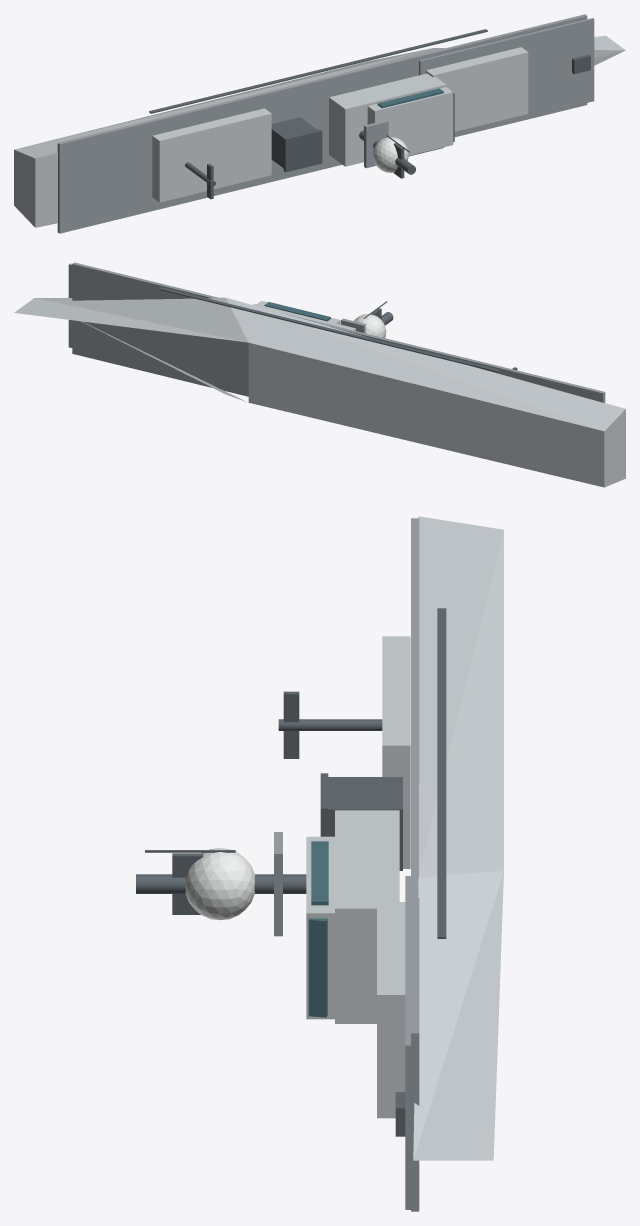
File: PV26_Warship.glb
3 renders of one model, top to bottom at view 1: azimuth 30°, elevation 25°; view 2: azimuth 150°, elevation 25°; view 3: azimuth 270°, elevation 25°, orthographic. The views are drawn at different scales.
Visible parts, largest first — view 1: Main deck, Aft deckhouse, Forward deck, Hull, Forward superstructure, Bridge lower, Bridge upper, Funnel cap, Hull side strip, Funnel, Main radome, Mast platform (+2 smaller); view 2: Hull, Main deck, Hull side strip, Main radome, Bridge glass starboard, Bridge lower; view 3: Hull, Bridge lower, Forward superstructure, Main deck, Aft deckhouse, Main radome, Hull side strip, Funnel, Bridge upper, Forward deck, Bridge glass front, Main mast (+5 smaller).
Part boxes in pixels (<box>): Main deck: <box>57,14,587,233</box>; Aft deckhouse: <box>152,108,271,202</box>; Forward deck: <box>419,18,594,134</box>; Hull: <box>14,35,625,227</box>; Forward superstructure: <box>426,47,528,131</box>; Bridge lower: <box>329,73,446,166</box>; Bridge upper: <box>367,87,453,155</box>; Funnel cap: <box>283,129,322,172</box>; Hull side strip: <box>149,29,487,113</box>; Funnel: <box>271,117,317,167</box>; Main radome: <box>372,137,408,172</box>; Mast platform: <box>364,120,388,168</box>; Hull: <box>14,297,625,487</box>; Main deck: <box>72,262,605,402</box>; Hull side strip: <box>158,287,499,372</box>; Main radome: <box>354,314,386,337</box>; Bridge glass starboard: <box>264,302,330,321</box>; Bridge lower: <box>253,303,355,330</box>; Hull: <box>413,516,503,1160</box>; Bridge lower: <box>335,810,399,1023</box>; Forward superstructure: <box>377,902,405,1118</box>; Main deck: <box>411,518,419,1211</box>; Aft deckhouse: <box>382,636,410,868</box>; Main radome: <box>185,848,254,920</box>; Hull side strip: <box>437,608,446,938</box>; Funnel: <box>328,777,402,870</box>; Bridge upper: <box>306,836,336,1019</box>; Forward deck: <box>405,876,410,1209</box>; Bridge glass front: <box>308,918,327,1017</box>; Main mast: <box>136,874,306,893</box>.
Size of the model in its own units: 105 by 16.4 by 28.4.
